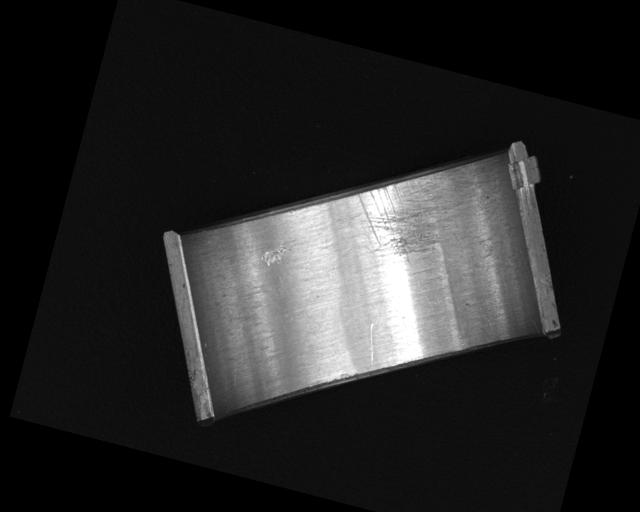bruise: (259, 240, 294, 272)
nick: (360, 322, 382, 366)
scratch: (343, 141, 467, 273)
